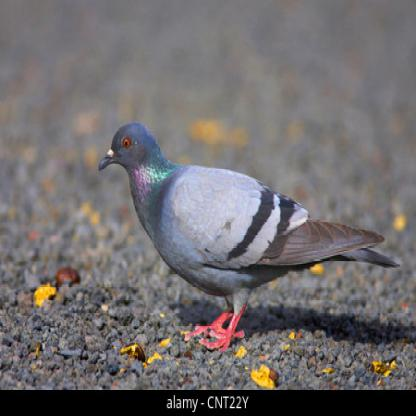Rock Pigeon: (94, 121, 395, 316)
